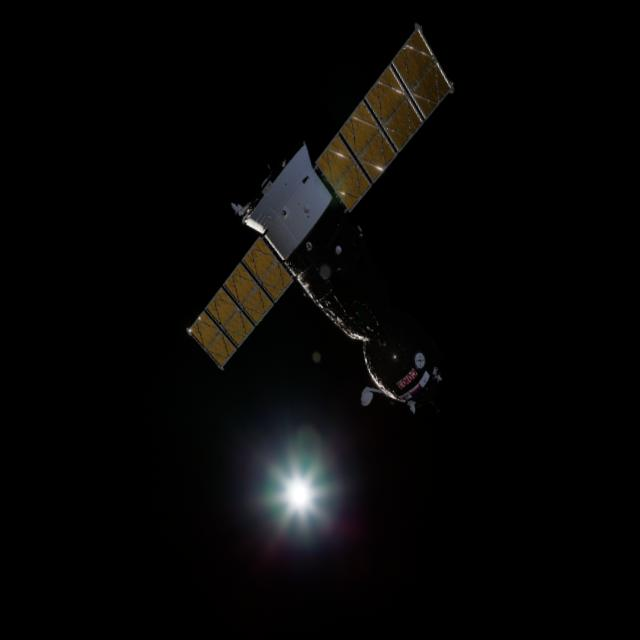Satellites revolving around earth: (138, 16, 511, 452)
